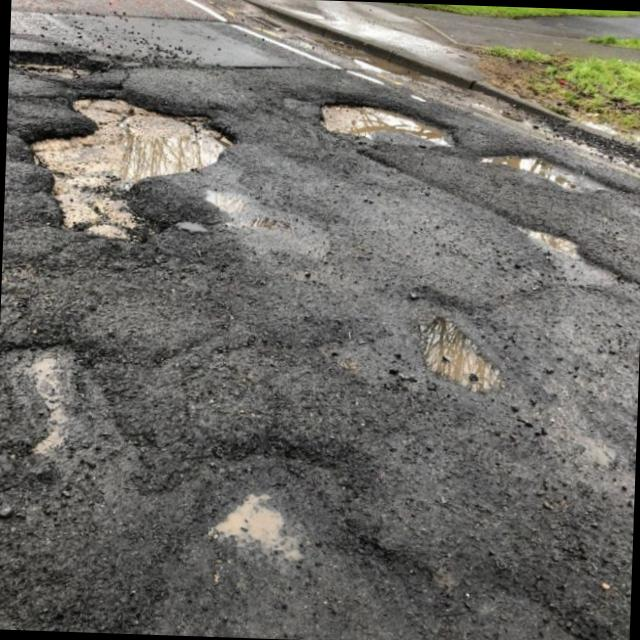Potholes: (159, 447, 600, 640), (12, 86, 254, 247), (0, 334, 118, 475), (474, 128, 624, 210), (406, 284, 510, 398), (308, 92, 468, 164), (512, 221, 626, 303), (8, 36, 143, 89)
